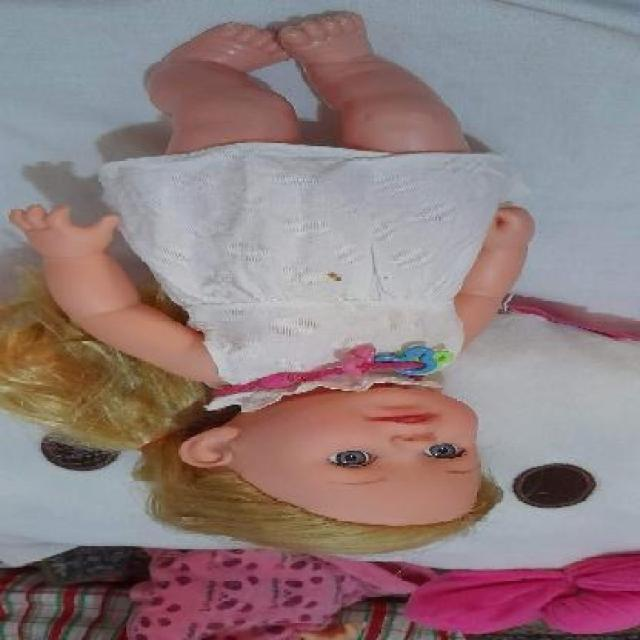child: (7, 17, 536, 557)
